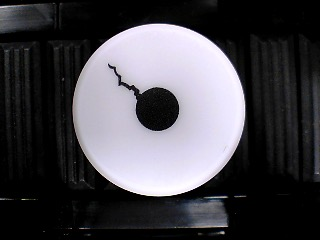CRACK: (71, 23, 246, 197)
